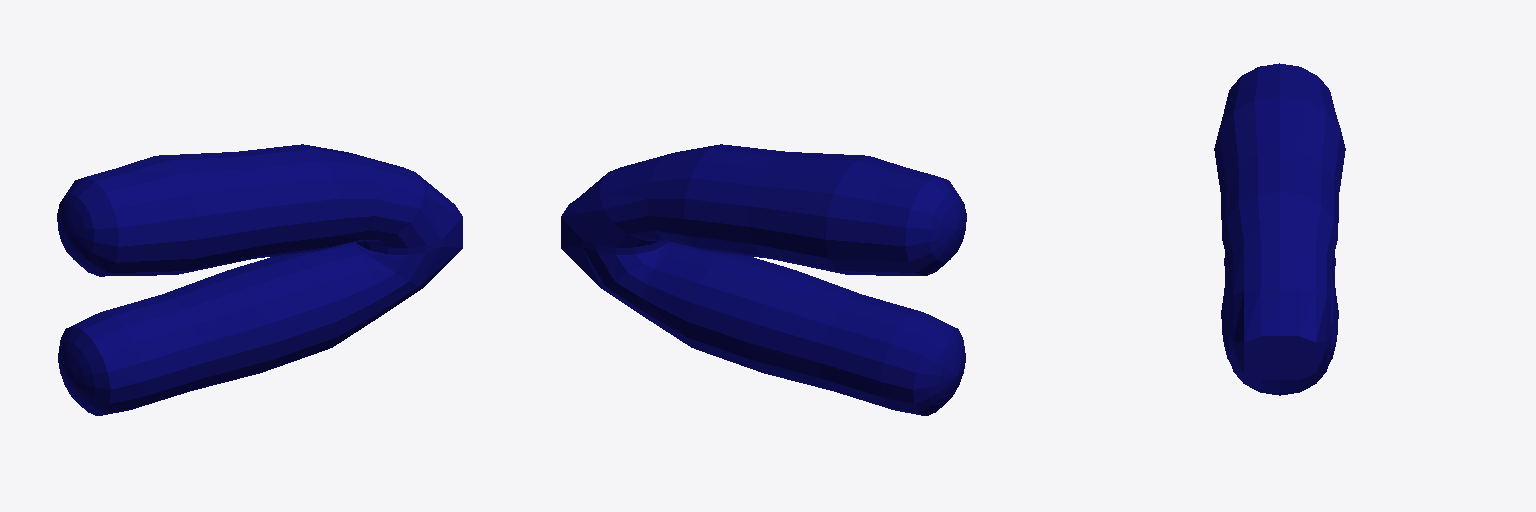
The model's file is Chromosome.obj.
The picture shows the model from 3 angles: view 1: azimuth 30°, elevation 25°; view 2: azimuth 150°, elevation 25°; view 3: azimuth 270°, elevation 25°; orthographic projection.
Parts seen in each view (by area): view 1: Chromosome Chromatid; view 2: Chromosome Chromatid; view 3: Chromosome Chromatid.
Part boxes in pixels (x1,y1,x2,y2): Chromosome Chromatid: (57,144,462,415); Chromosome Chromatid: (561,144,966,415); Chromosome Chromatid: (1214,63,1345,395).
Bounding box in the file's own units: 7.22 × 4.25 × 2.17.